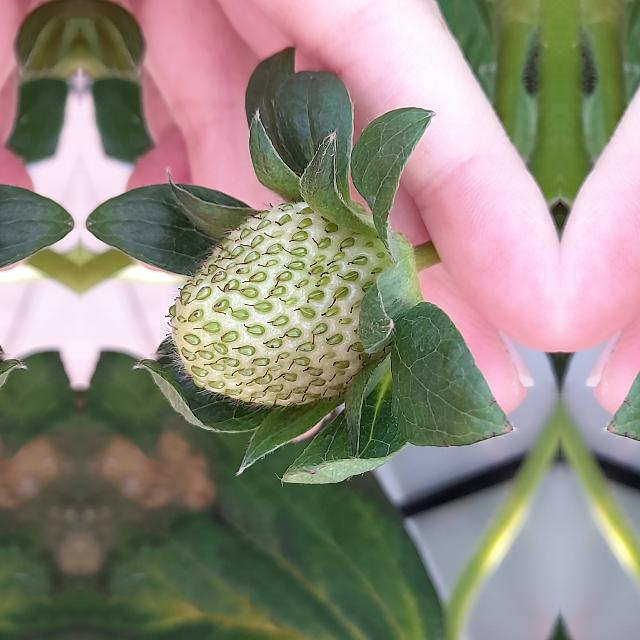Health_25: (164, 200, 390, 412)
